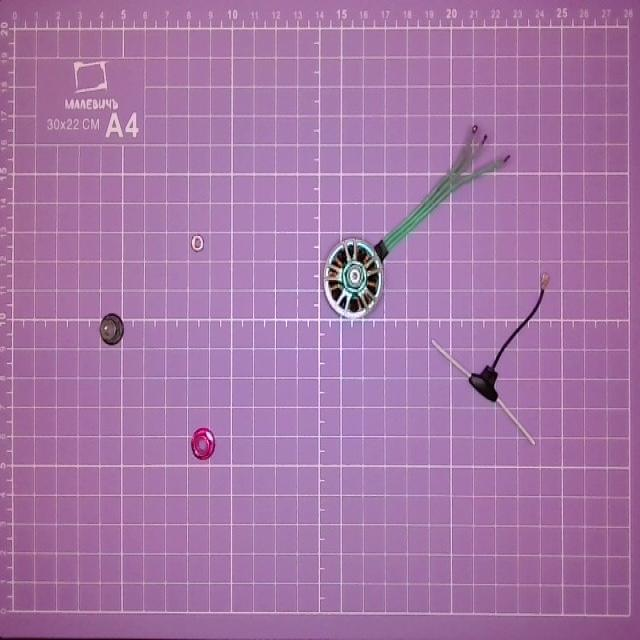antenna: (431, 272, 552, 445)
motor: (324, 117, 514, 318)
screw_M3: (188, 229, 209, 260)
screw_M5: (187, 425, 217, 463), (98, 310, 125, 352)
